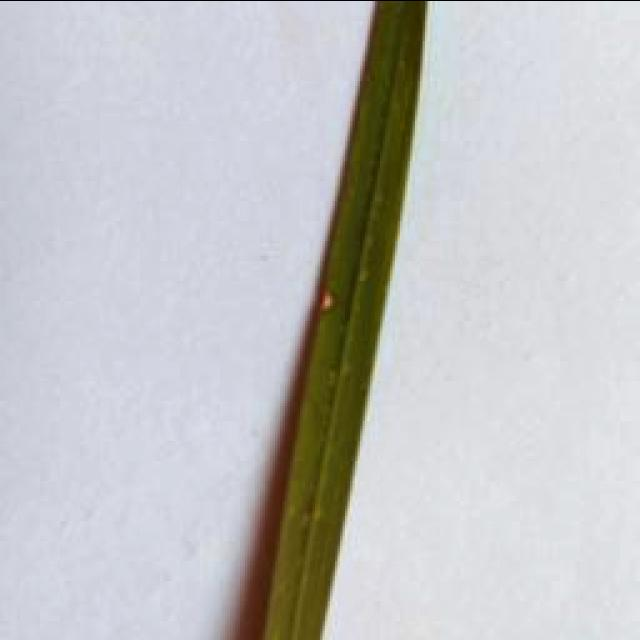Unhealthy: (320, 289, 335, 312)
